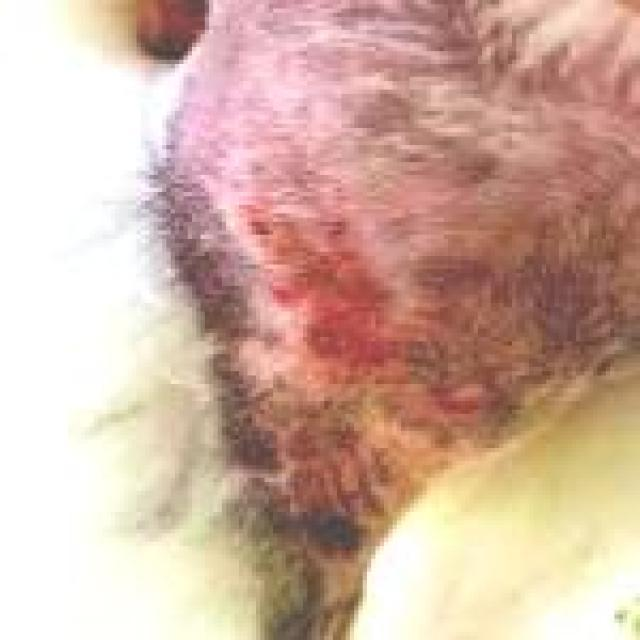fungal infection: (230, 187, 407, 383), (434, 374, 493, 418)
